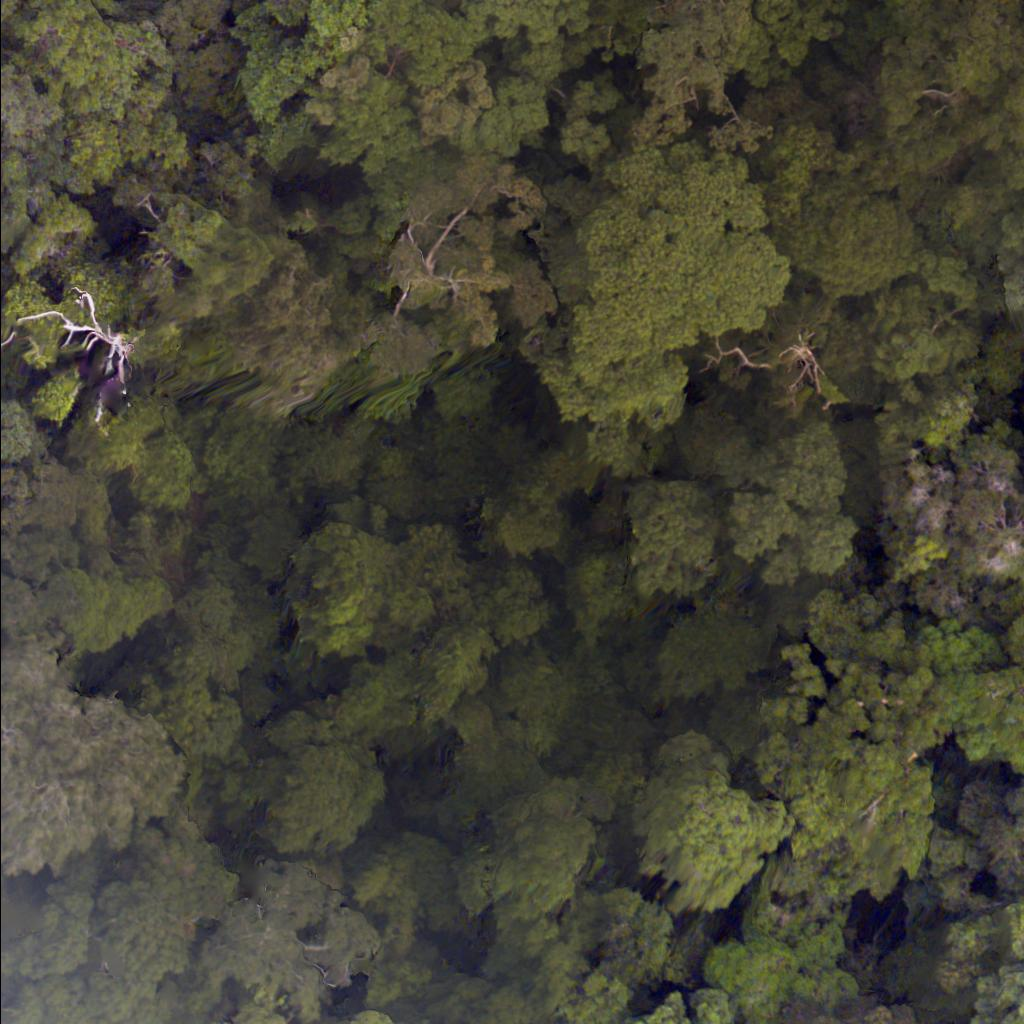crown: (525, 158, 799, 424), (291, 514, 533, 749), (828, 0, 1023, 244), (0, 638, 187, 882), (750, 691, 949, 913), (353, 153, 548, 373), (639, 0, 849, 151), (702, 422, 859, 591), (632, 737, 793, 896), (883, 430, 1023, 604), (701, 297, 876, 436), (241, 710, 394, 857), (709, 889, 862, 1023), (458, 780, 586, 939), (777, 177, 918, 303), (624, 478, 736, 613), (954, 774, 1023, 897), (0, 68, 69, 151), (966, 947, 1023, 1023), (636, 982, 724, 1023), (0, 405, 35, 465), (246, 1013, 374, 1023), (1009, 278, 1023, 329)
